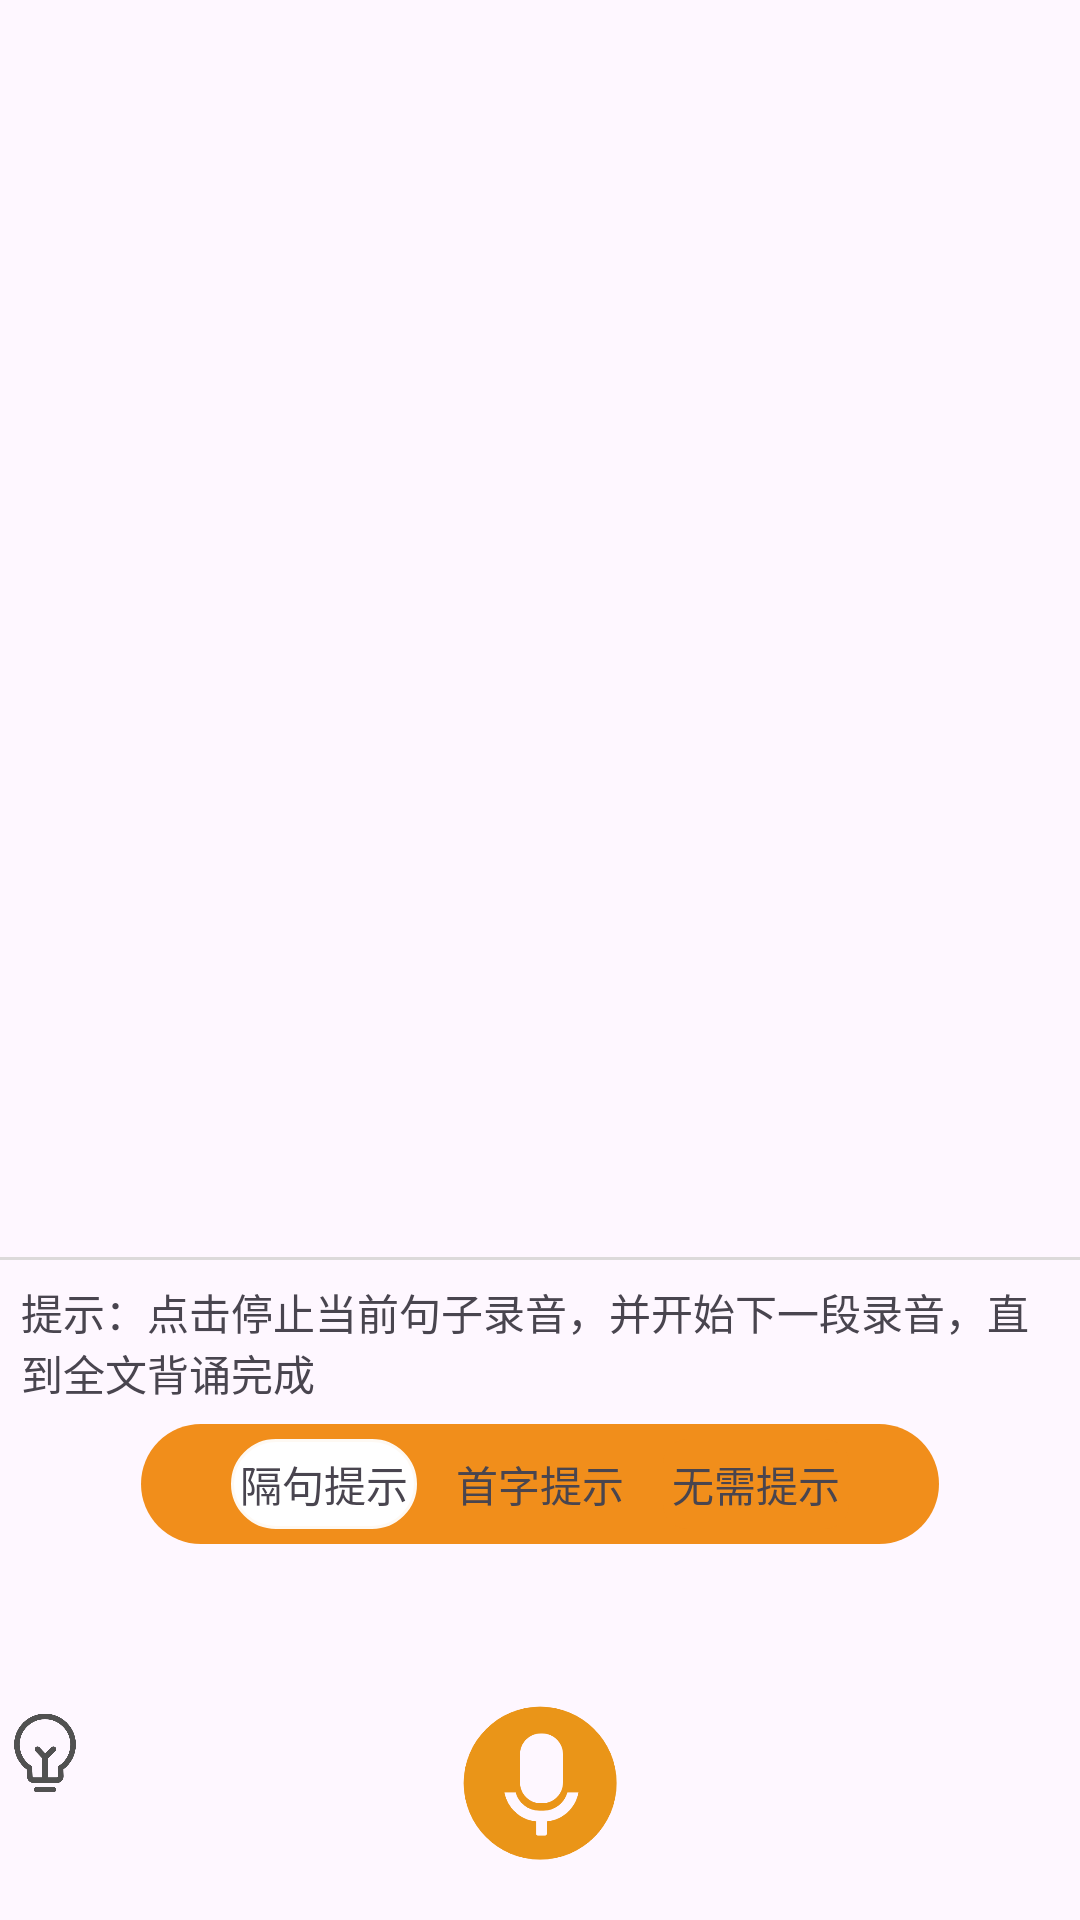

Where icons sit on this 1080w x 1920h app screen, as (x1, y1, x2, y2):
beisong begin: (463, 1706, 617, 1860)
